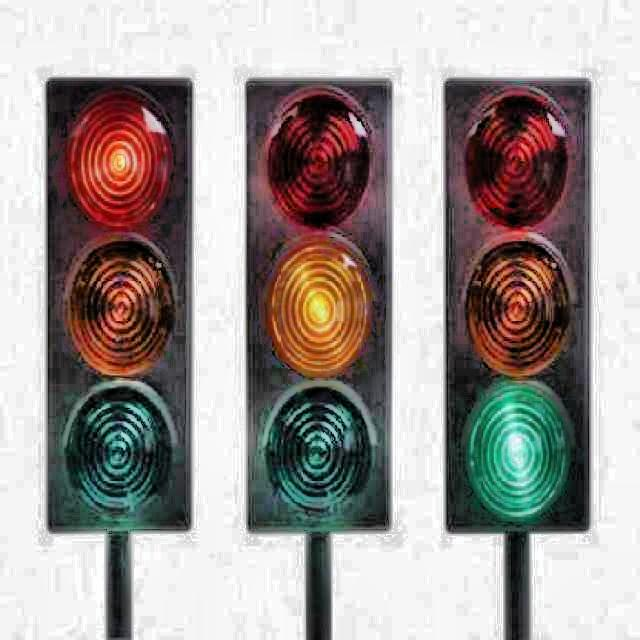green: (440, 78, 591, 537)
red: (41, 77, 188, 530)
yellow: (245, 70, 391, 536)
